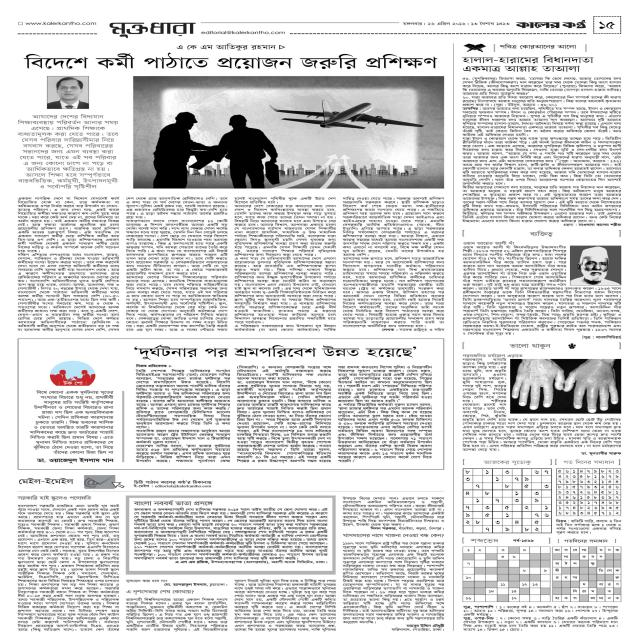image: (133, 82, 436, 190), (509, 358, 622, 413), (570, 246, 620, 284), (45, 77, 92, 110), (49, 361, 98, 387), (85, 475, 127, 489)
page number: (596, 19, 619, 32)
paragraph: (457, 357, 624, 451), (460, 245, 621, 335), (16, 503, 121, 633), (132, 507, 332, 564), (342, 541, 445, 623), (15, 113, 121, 191), (235, 380, 333, 464), (16, 253, 120, 332), (459, 137, 623, 185), (342, 256, 446, 330), (233, 258, 337, 323), (341, 197, 446, 256), (460, 185, 623, 223), (123, 219, 228, 276), (336, 403, 434, 464), (134, 368, 233, 428), (27, 389, 116, 455), (234, 200, 337, 257), (125, 275, 228, 332), (16, 196, 120, 252), (233, 578, 337, 632), (461, 106, 621, 136), (337, 364, 434, 403), (125, 597, 228, 633), (341, 495, 445, 526), (460, 76, 622, 95), (459, 616, 620, 632), (124, 196, 229, 218), (133, 444, 232, 464), (460, 95, 622, 106), (459, 605, 620, 615), (237, 364, 331, 381), (134, 429, 231, 443), (556, 519, 622, 535), (234, 324, 336, 333), (348, 526, 443, 532)
table: (463, 468, 553, 532), (463, 546, 547, 603), (551, 547, 623, 602), (555, 470, 624, 514)
text: (173, 42, 286, 52), (401, 19, 508, 28), (492, 42, 580, 51), (132, 479, 212, 487), (17, 476, 74, 486), (37, 457, 115, 464), (200, 30, 288, 36), (16, 21, 98, 27), (394, 623, 445, 632), (553, 459, 619, 465), (482, 459, 533, 465), (565, 222, 621, 227), (461, 240, 515, 245), (126, 578, 169, 584), (580, 451, 623, 456), (562, 539, 609, 543), (135, 363, 172, 368), (581, 335, 621, 339), (473, 538, 497, 543), (489, 473, 501, 483), (512, 538, 535, 543), (565, 342, 579, 350), (466, 594, 475, 603), (501, 482, 512, 489), (571, 589, 582, 596), (542, 469, 551, 477), (484, 526, 493, 533), (462, 513, 472, 519), (497, 581, 507, 587), (495, 555, 509, 559), (508, 555, 519, 560), (503, 512, 512, 518), (581, 555, 590, 561), (563, 555, 572, 561), (505, 598, 522, 601), (462, 491, 472, 496), (502, 472, 512, 477), (531, 499, 543, 503), (534, 513, 542, 519), (463, 519, 471, 525), (484, 470, 492, 476), (589, 595, 597, 601), (571, 595, 579, 601), (464, 477, 473, 482), (476, 520, 485, 525), (500, 548, 509, 553), (554, 561, 563, 566), (554, 596, 565, 600), (527, 527, 538, 531), (474, 497, 480, 504), (593, 490, 600, 496), (464, 574, 470, 581), (581, 582, 588, 588), (543, 483, 551, 488), (522, 506, 532, 510), (464, 470, 472, 475), (494, 498, 502, 503), (578, 486, 586, 491), (590, 555, 598, 560), (552, 567, 560, 572), (596, 596, 604, 601), (464, 597, 473, 601), (513, 492, 519, 498), (612, 480, 621, 484), (578, 511, 587, 515), (464, 561, 473, 565), (540, 567, 546, 573), (485, 589, 494, 593), (530, 583, 539, 587), (482, 491, 489, 496), (514, 519, 521, 524), (600, 480, 607, 485), (593, 479, 600, 484), (521, 548, 528, 553), (498, 582, 505, 587), (510, 589, 517, 594), (562, 548, 569, 553), (589, 561, 596, 566), (517, 477, 522, 483), (523, 484, 529, 489), (544, 504, 549, 510), (535, 520, 540, 526), (564, 469, 570, 474), (571, 474, 577, 479), (585, 494, 591, 499), (572, 505, 578, 510), (614, 506, 620, 511), (586, 486, 592, 491), (465, 548, 471, 553), (522, 568, 528, 573), (581, 588, 587, 593), (608, 589, 614, 594), (475, 484, 482, 488), (504, 506, 511, 510), (605, 490, 612, 494), (593, 511, 600, 515), (554, 548, 561, 552), (572, 549, 579, 553), (503, 528, 512, 531), (605, 511, 614, 514), (605, 584, 614, 587), (535, 470, 540, 475), (559, 479, 564, 484), (558, 506, 563, 511), (556, 575, 561, 580), (573, 575, 578, 580), (483, 513, 491, 516), (532, 491, 538, 495), (558, 470, 564, 474), (585, 475, 591, 479), (593, 474, 599, 478), (600, 474, 606, 478), (607, 475, 613, 479), (607, 480, 613, 484), (587, 480, 593, 484), (580, 480, 586, 484), (614, 491, 620, 495), (594, 500, 600, 504), (557, 491, 563, 495), (565, 511, 571, 515), (476, 548, 482, 552), (519, 582, 525, 586), (605, 548, 611, 552), (600, 568, 606, 572), (604, 596, 610, 600), (613, 596, 619, 600), (562, 475, 569, 478), (572, 562, 579, 565), (545, 513, 549, 518), (614, 475, 619, 479), (600, 486, 605, 490), (559, 485, 563, 490), (565, 575, 570, 579), (614, 500, 620, 503), (564, 501, 570, 504), (579, 475, 583, 479), (572, 490, 576, 494), (580, 501, 584, 505), (566, 506, 570, 510), (587, 506, 591, 510), (600, 506, 604, 510), (616, 548, 620, 552), (615, 575, 619, 579), (572, 480, 577, 483), (565, 484, 570, 487), (599, 496, 604, 499), (564, 491, 569, 494), (607, 569, 612, 572), (483, 507, 490, 509), (558, 496, 562, 499), (615, 569, 619, 572), (592, 496, 597, 498), (578, 491, 582, 493), (599, 548, 603, 550), (616, 583, 620, 585)
title: (21, 53, 440, 73), (130, 343, 418, 358), (457, 54, 593, 74), (105, 17, 197, 38), (515, 19, 587, 31), (342, 531, 443, 538), (132, 500, 214, 507), (17, 494, 91, 501), (509, 342, 552, 350), (126, 589, 187, 594), (527, 230, 554, 238)
